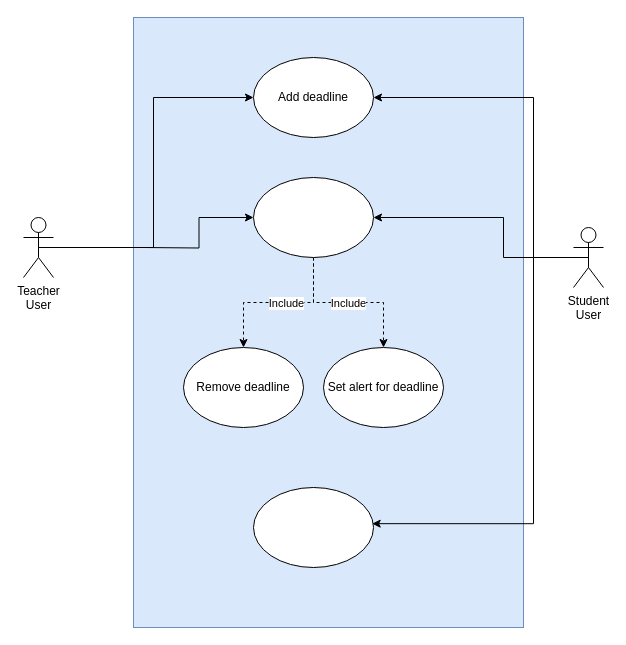
Some shapes in this 626 by 645 pixel diagram are drawn without their labels. Here are the shapes that lost their labels. From the top down, the box of each, then its label:
(252, 176, 374, 258): Edit deadline
(252, 486, 374, 568): Export calendar to external calendar app
